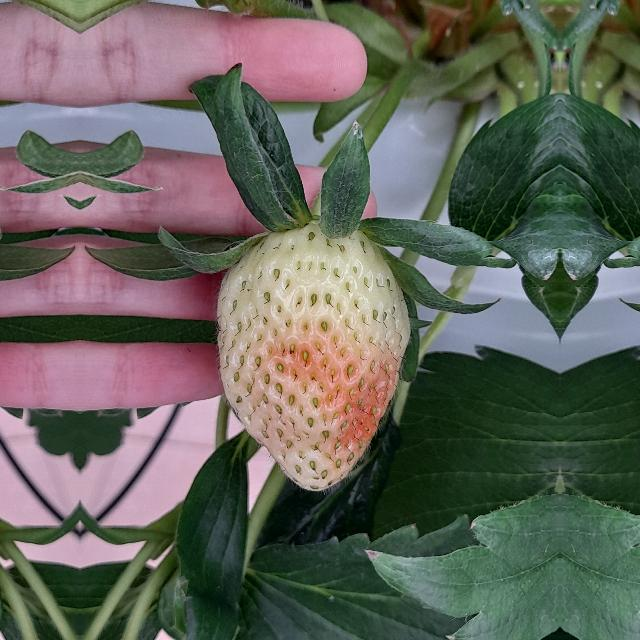Health_50: (216, 224, 410, 491)
